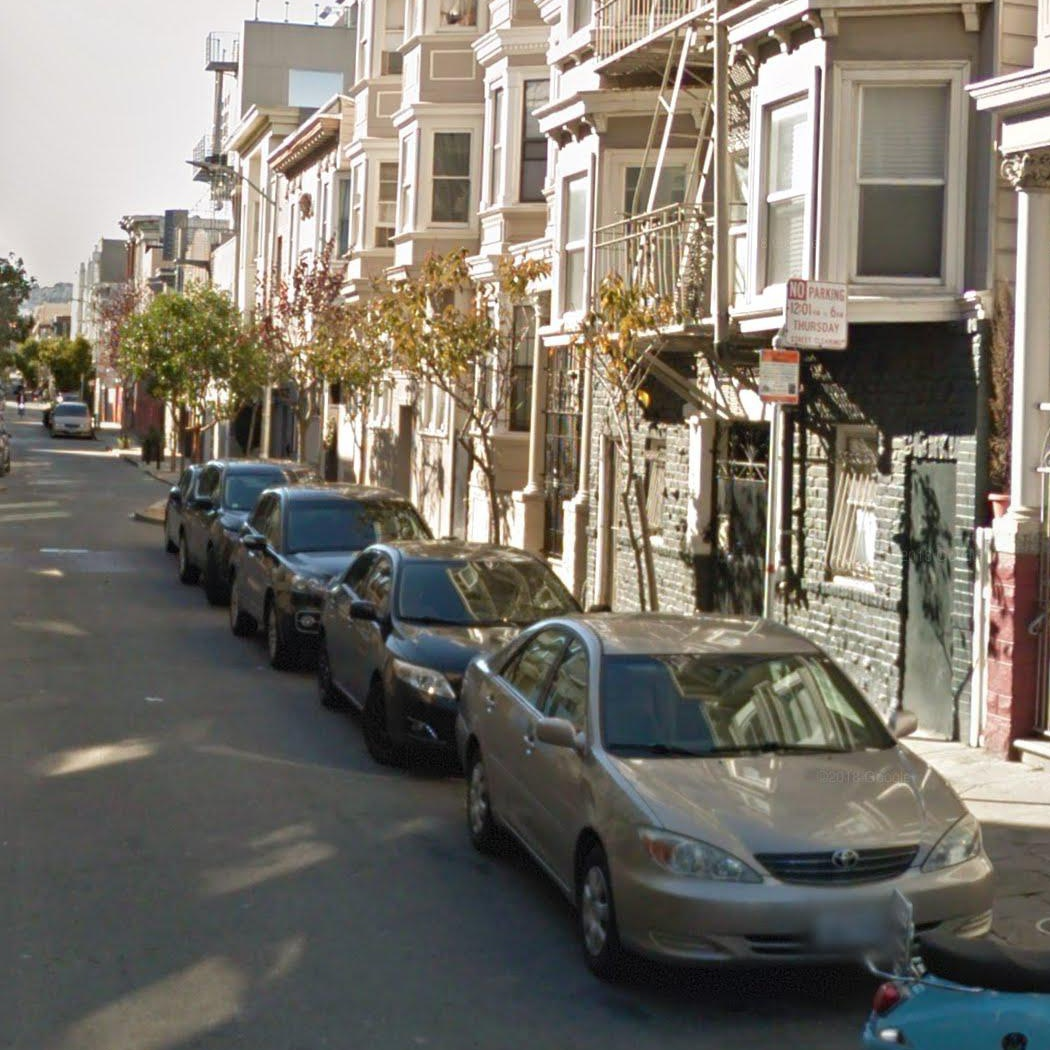No Parking: (783, 277, 849, 352)
